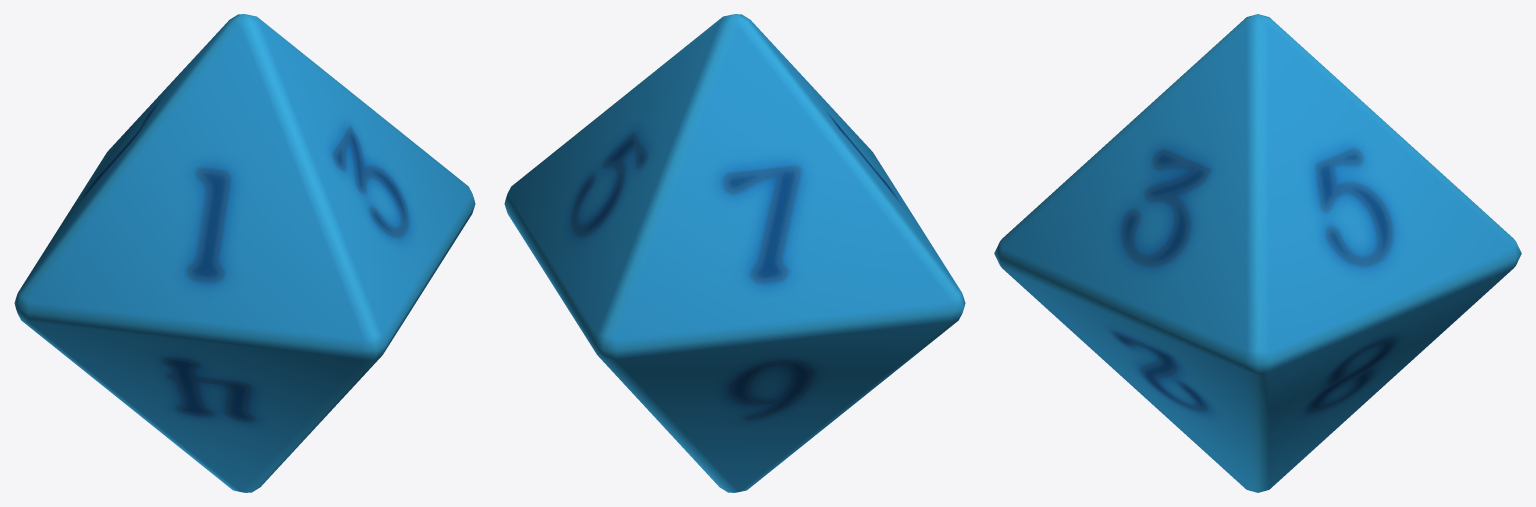
File: D8_blue.obj
3 views of the same model, side by side, from view 1: azimuth 30°, elevation 25°; view 2: azimuth 150°, elevation 25°; view 3: azimuth 270°, elevation 25° (orthographic).
Parts seen in each view (by area): view 1: D8_blue; view 2: D8_blue; view 3: D8_blue.
Boxes of the visible parts, x1=… form: D8_blue: x1=14, y1=14, x2=475, y2=492; D8_blue: x1=504, y1=14, x2=965, y2=492; D8_blue: x1=994, y1=14, x2=1521, y2=492.
Size of the model in its own units: 1 by 1 by 1.
Materials: 1 (1 with a texture image).
